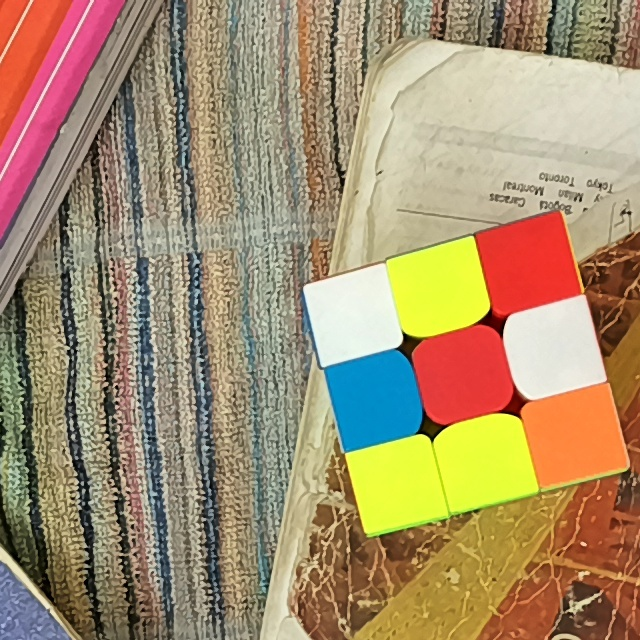tile: (541, 399, 610, 470), (522, 313, 590, 381), (342, 366, 410, 434), (433, 338, 499, 408), (493, 232, 563, 297), (408, 255, 478, 318), (453, 430, 520, 493), (319, 284, 387, 346), (366, 451, 428, 515)
